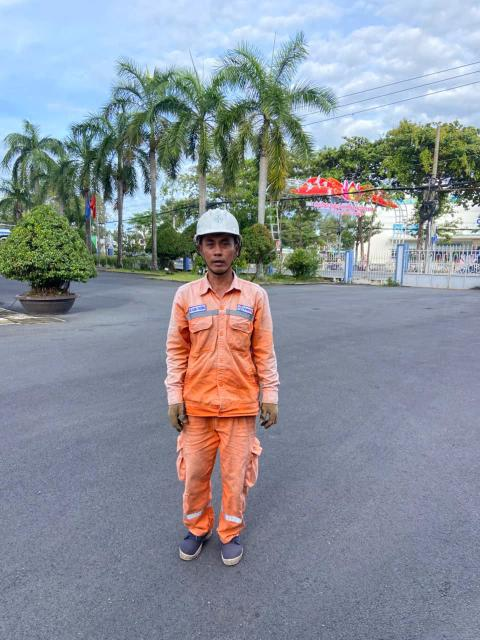gloves: (165, 395, 188, 440), (254, 403, 278, 432)
helmet: (187, 202, 248, 245)
shoes: (171, 512, 215, 565), (218, 523, 255, 572)
